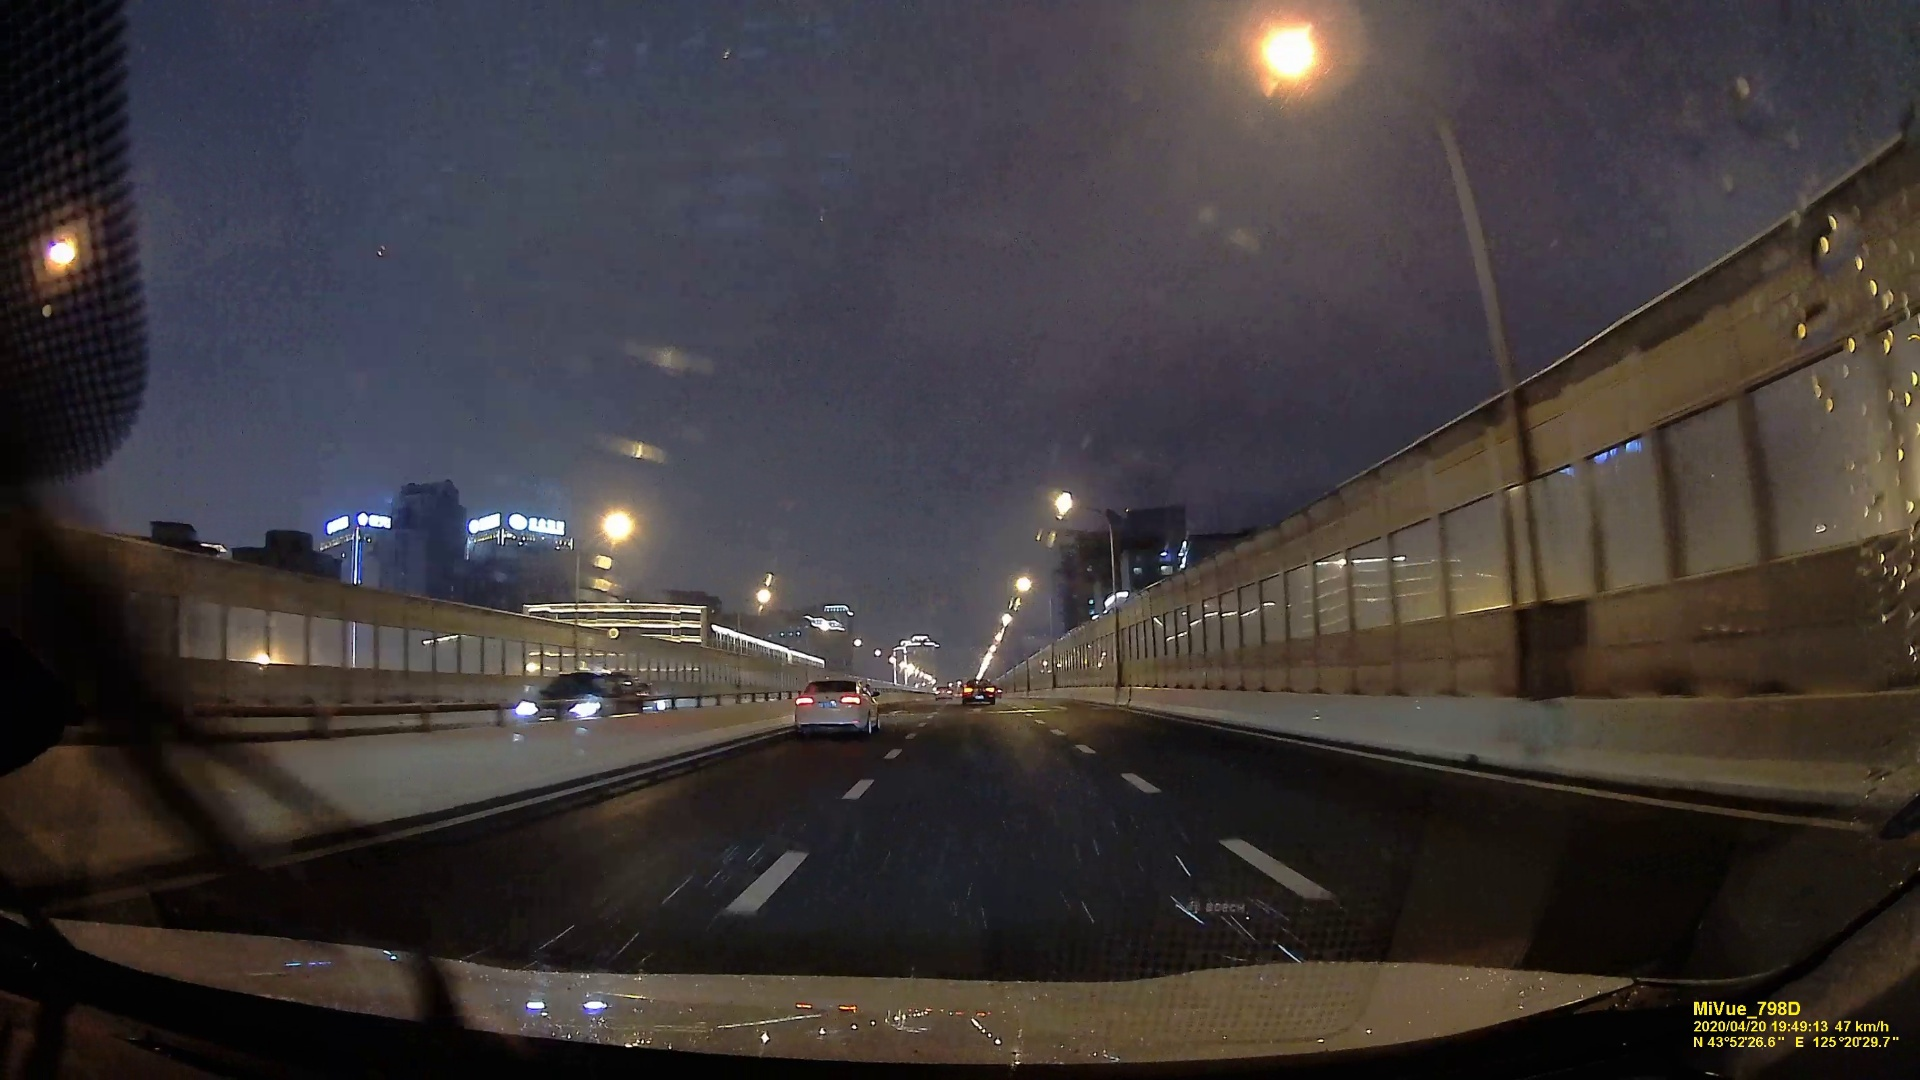vehicle: (506, 669, 646, 727), (790, 679, 876, 735), (961, 680, 998, 707)
